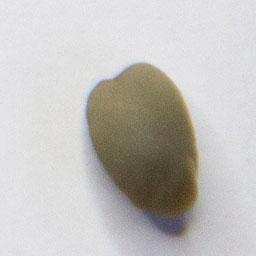peaberry: (81, 58, 203, 220)
